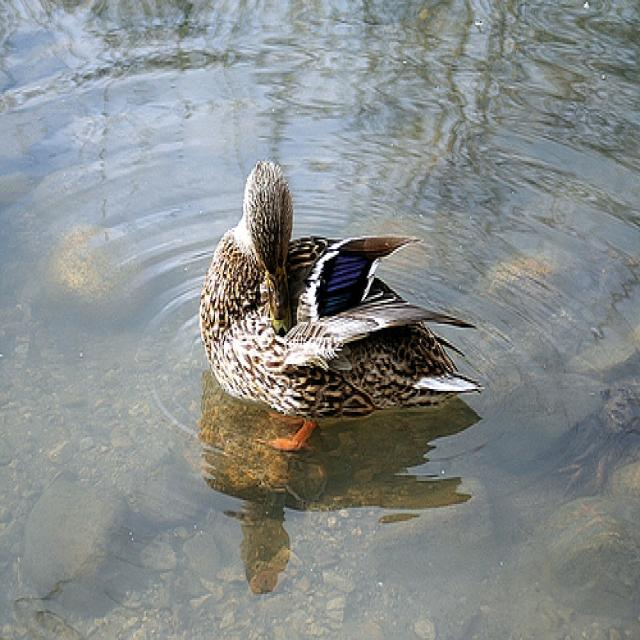bird: (201, 160, 485, 459)
